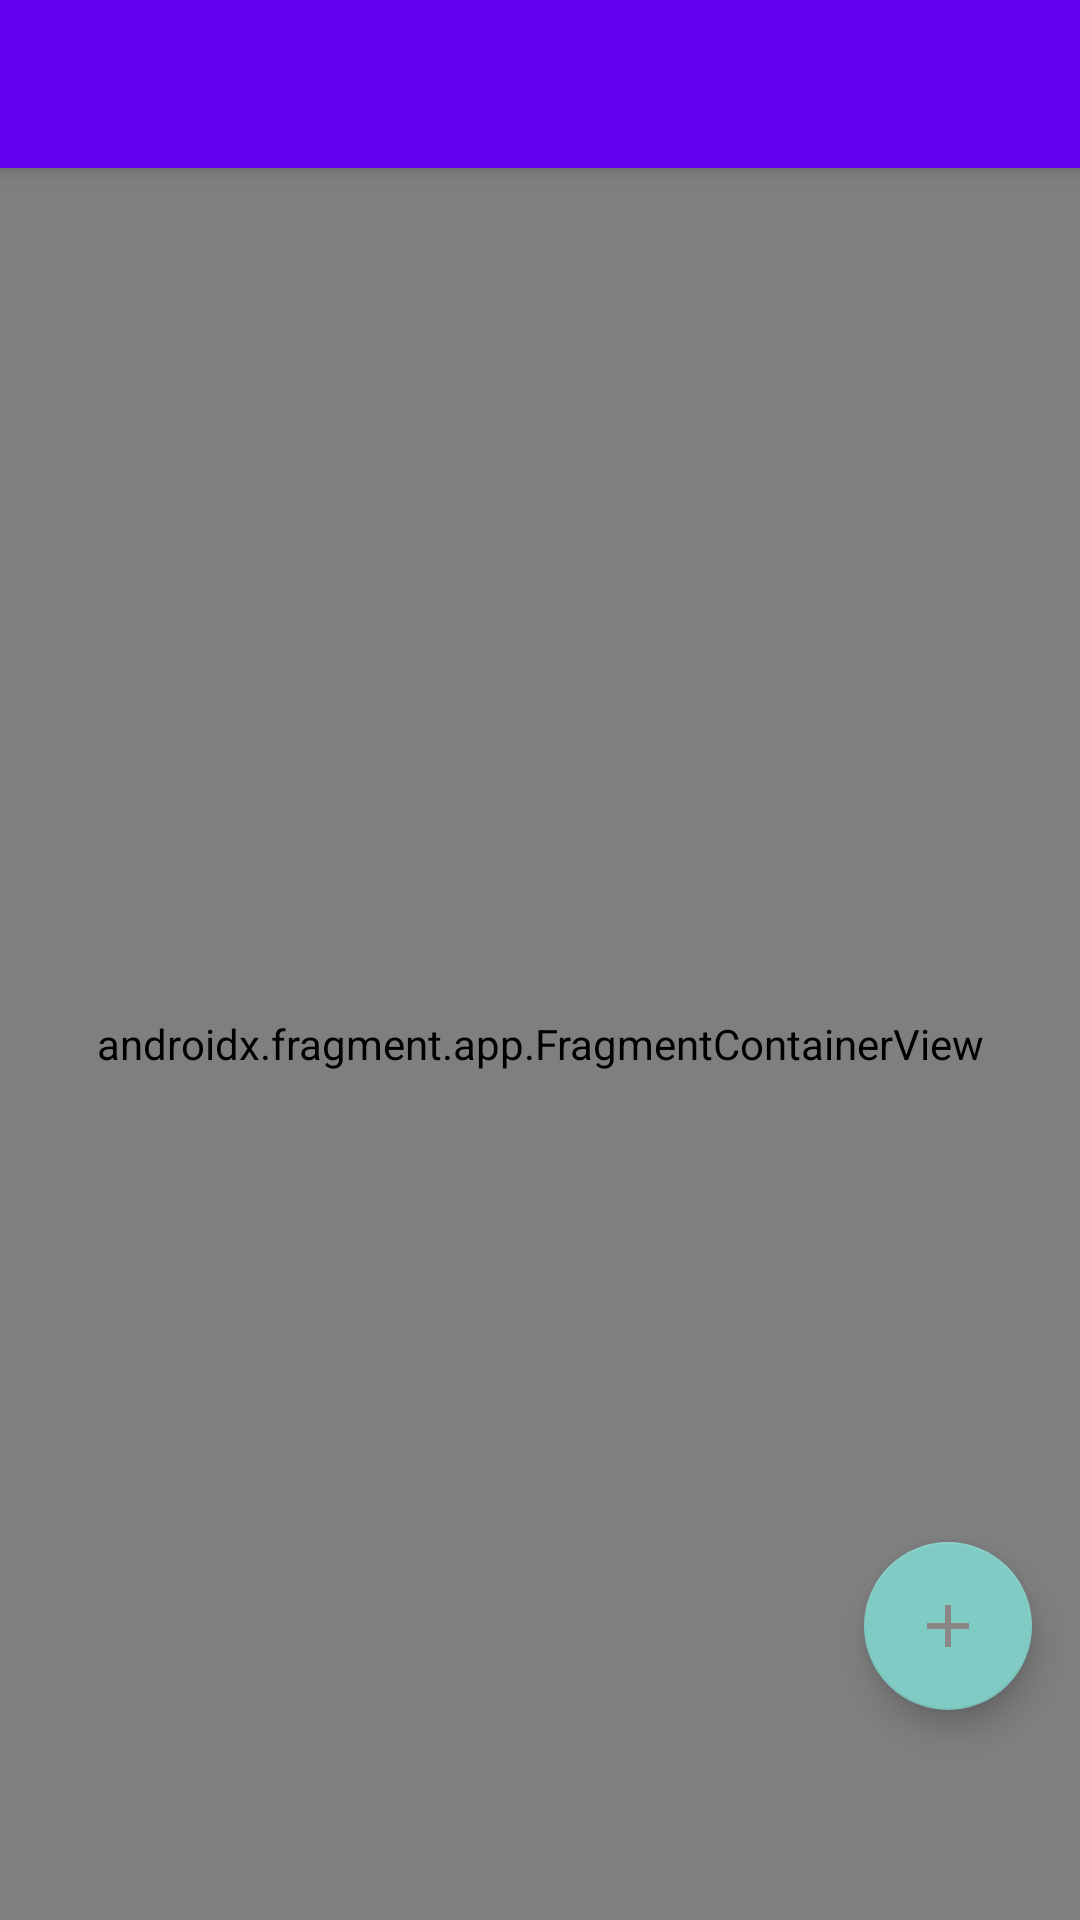

Icons on this 1080x1920 Android screen, each with the point to tap as point (x, y):
add: point (948, 1626)
